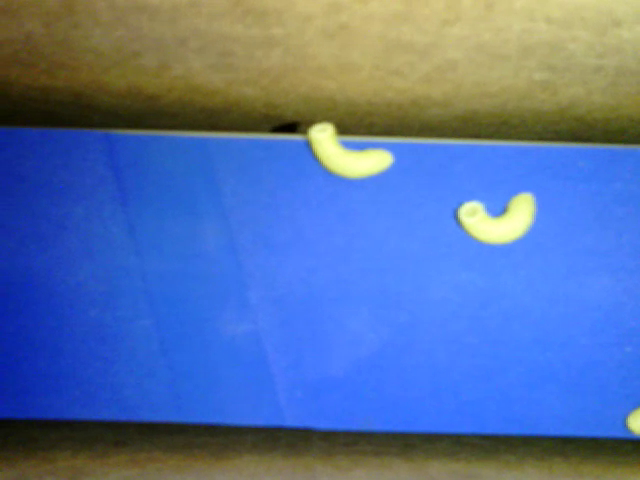elbow: (309, 119, 394, 179), (456, 191, 536, 244)
